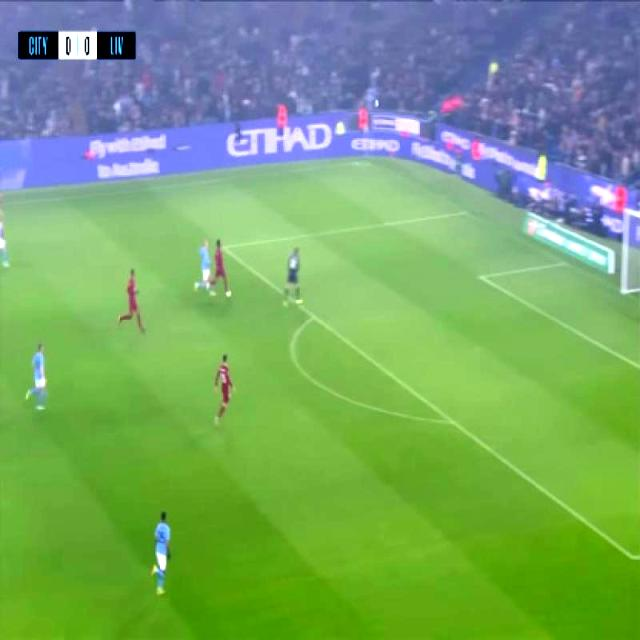bigarea_bottom_inner: (621, 541, 640, 570)
bigarea_top_inner: (216, 238, 230, 258)
bigarea_top_outter: (456, 202, 472, 220)
bottom_arc_area_intersection: (442, 408, 462, 432)
corner: (355, 156, 375, 169)
smallarea_top_inner: (471, 264, 491, 288)
smallarea_top_outter: (552, 252, 574, 272)
top_arc_area_intersection: (304, 306, 322, 326)
